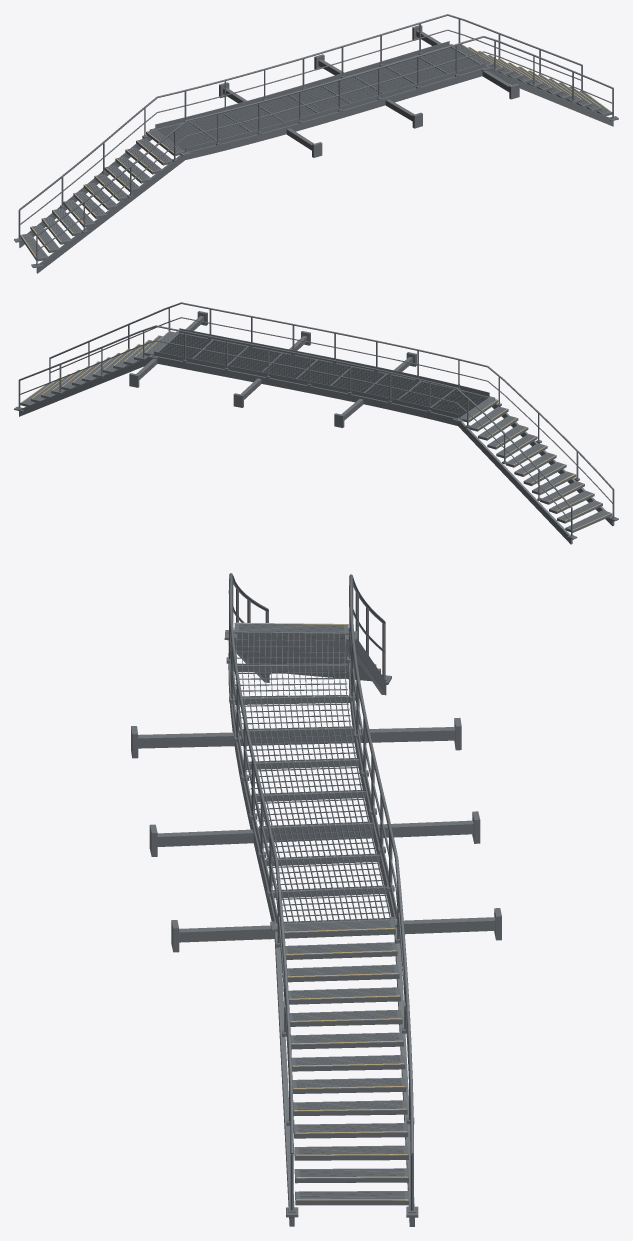
Rendered from BD_T08_UpperWalk_LOD1.fbx.
The picture shows the model from 3 angles, top to bottom: view 1: azimuth 30°, elevation 25°; view 2: azimuth 150°, elevation 25°; view 3: azimuth 270°, elevation 25°; orthographic projection. The views are drawn at different scales.
Parts seen in each view (by area): view 1: BD_T08_UpperWalk_LOD1; view 2: BD_T08_UpperWalk_LOD1; view 3: BD_T08_UpperWalk_LOD1.
Boxes of the visible parts, x1,y1,x2,y2 form: BD_T08_UpperWalk_LOD1: [14, 14, 618, 273]; BD_T08_UpperWalk_LOD1: [14, 302, 618, 544]; BD_T08_UpperWalk_LOD1: [131, 573, 501, 1226].
Bounding box in the file's own units: 1719 × 350 × 488.
